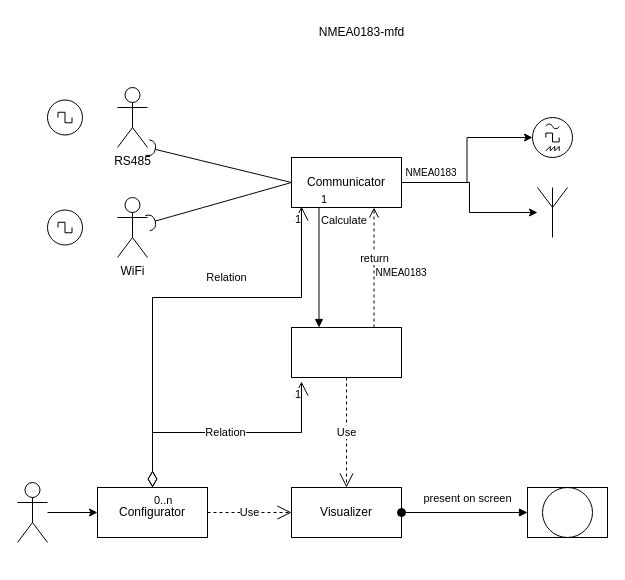
This 625x580 diagram has some shape labels left out. Each missing label, with the centre of its shape:
"Calculator" belongs at (346,352).
"User" belongs at (32,512).
